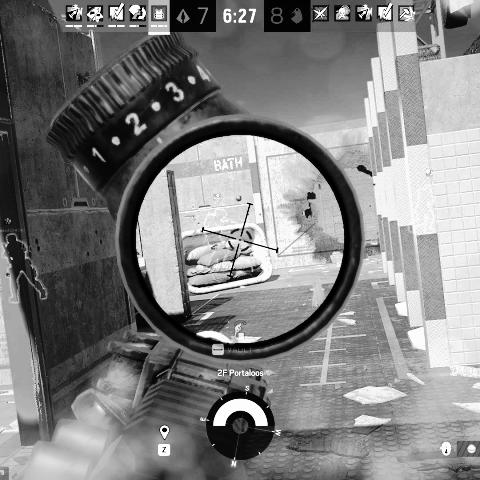Friend_label: (0, 216, 24, 234), (210, 193, 225, 207)
